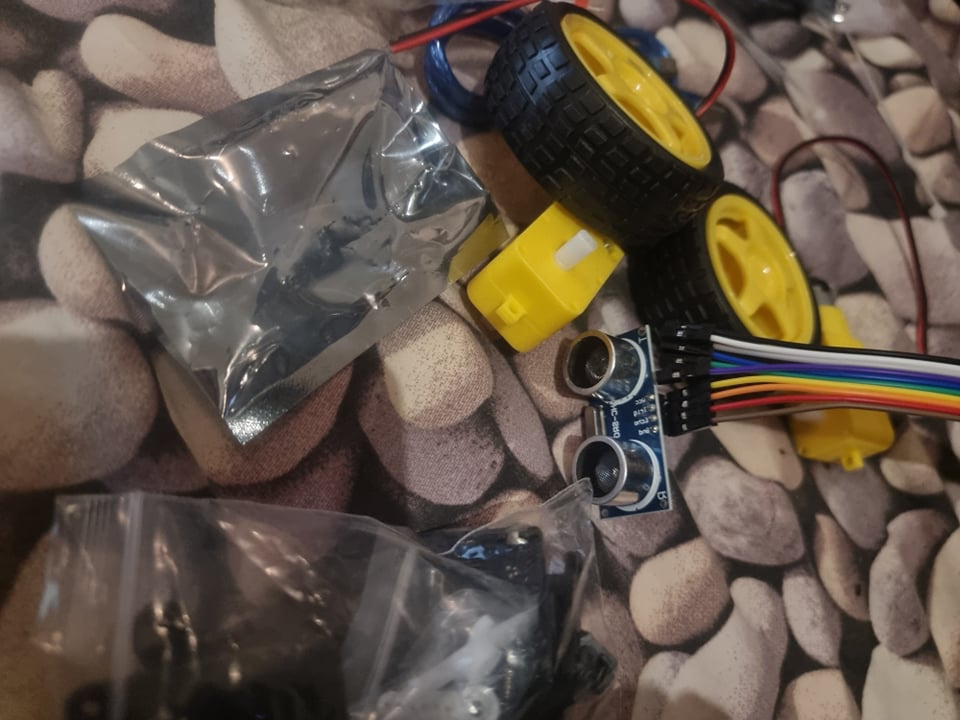SENSOR: (563, 325, 655, 516)
